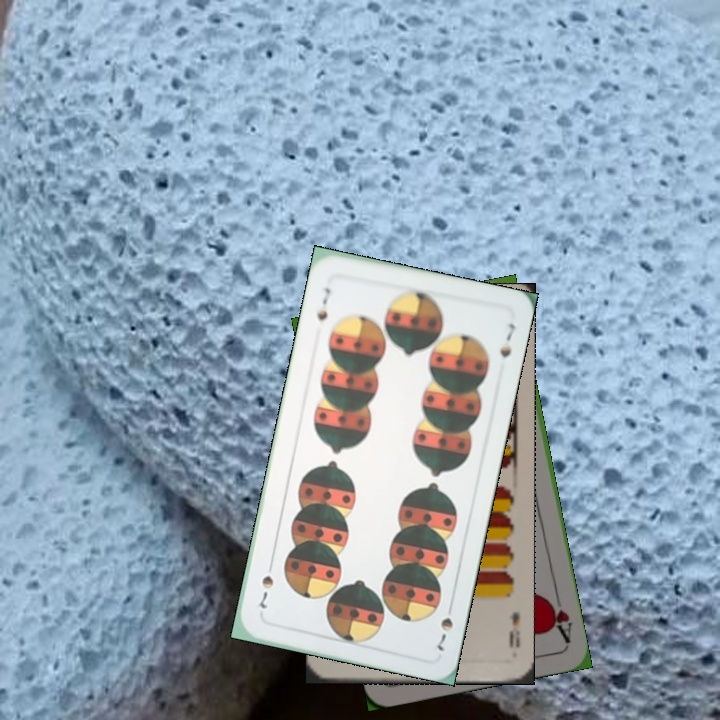E9: (505, 608, 523, 650)
HA: (543, 587, 575, 645)
S7: (433, 613, 456, 654), (312, 283, 334, 324)
